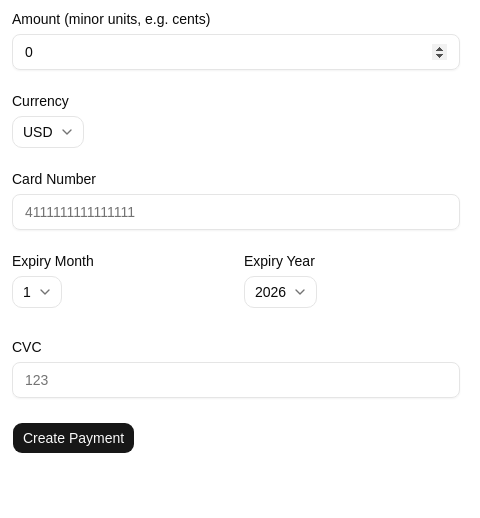
Test: CreatePaymentForm › shows error when card number is not 16 digits
Replace the text in the number field labelled "Amount (minor units, e.g. cents)" with "1000" at (236, 52), box [12,34,460,70]
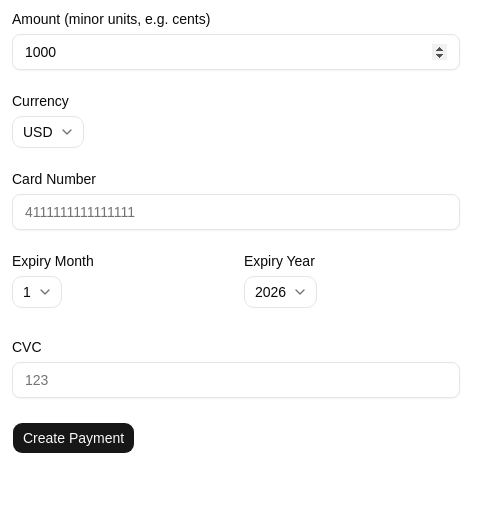
Type "1234" into the field labelled "Card Number" at (236, 212), box [12,194,460,230]
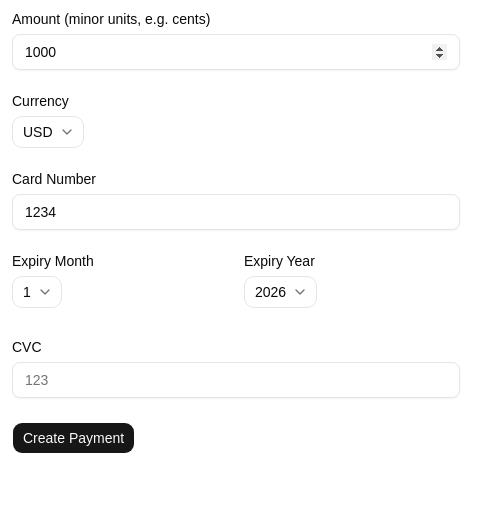
Click the button at (74, 438), box [12,422,135,454]
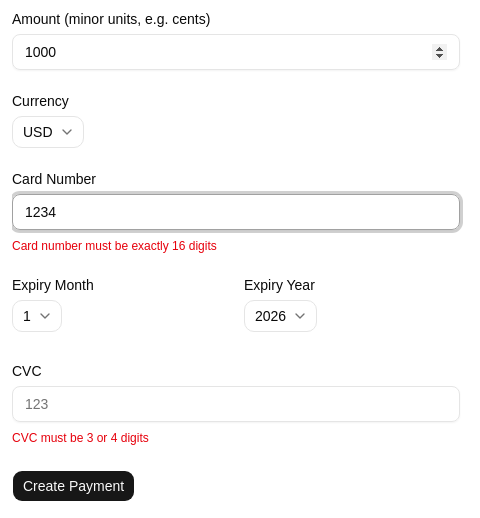
Now the text "Card number must be exactly 16 digits" is shown, box [12,239,217,253]
